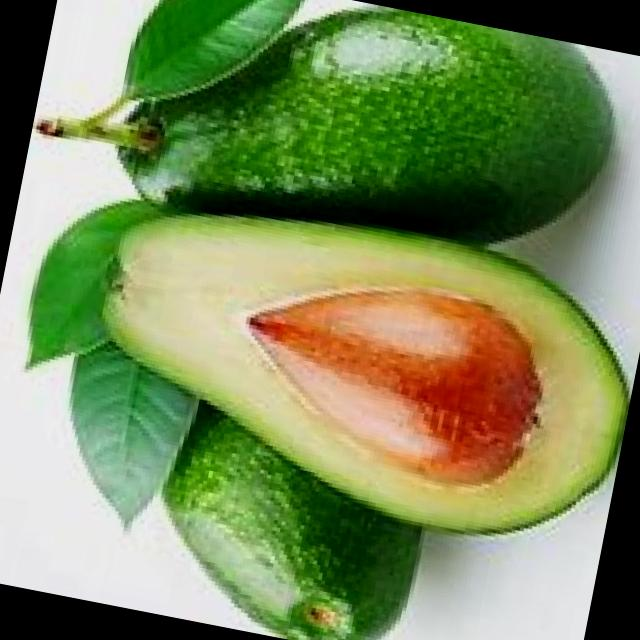avocado: (58, 178, 640, 554), (113, 0, 627, 283)
